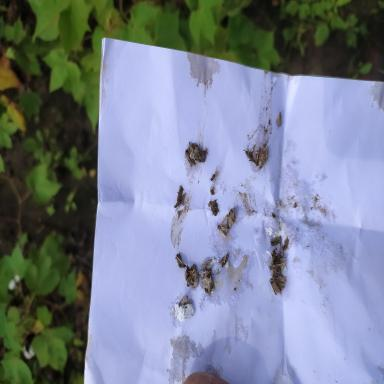pbw: (269, 278, 283, 296), (215, 222, 229, 238), (219, 252, 230, 267), (178, 294, 188, 308), (229, 207, 236, 221), (226, 212, 232, 227), (264, 143, 268, 161)
